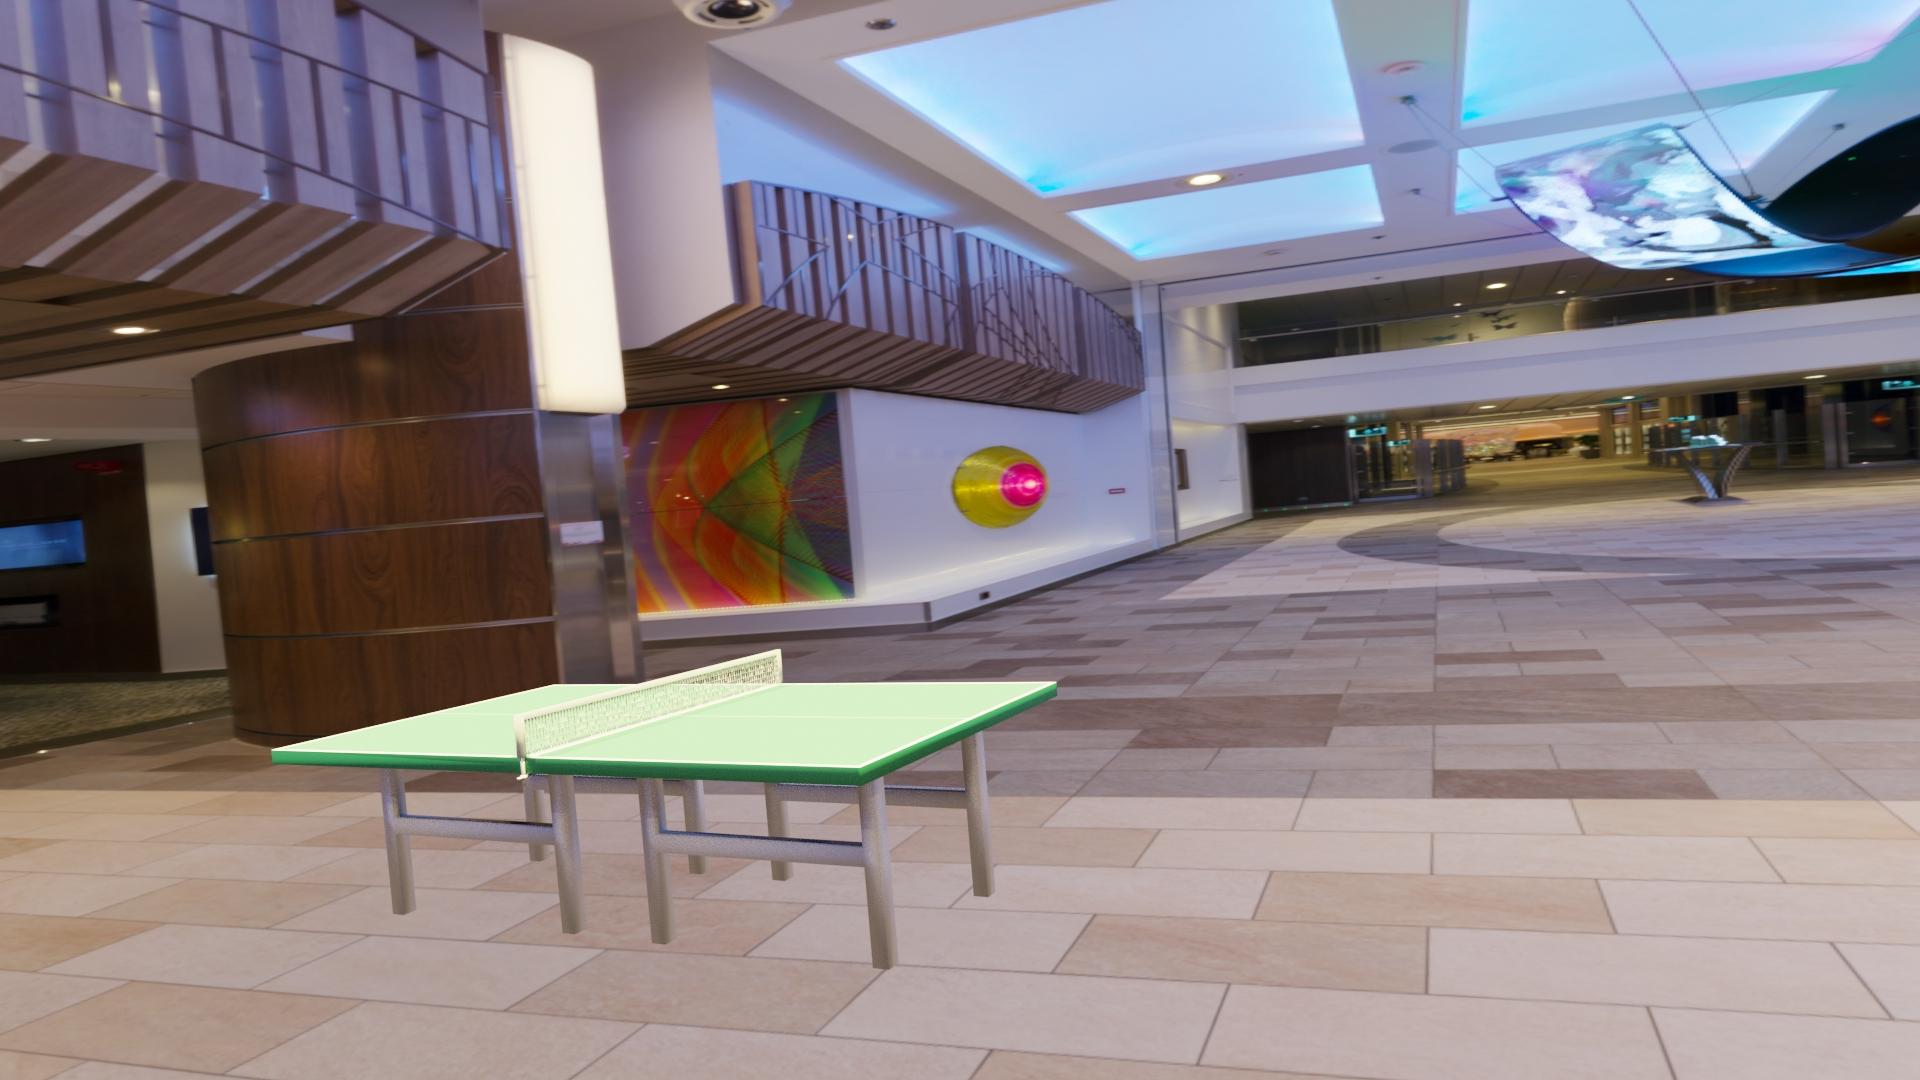table: (280, 683, 1050, 766)
